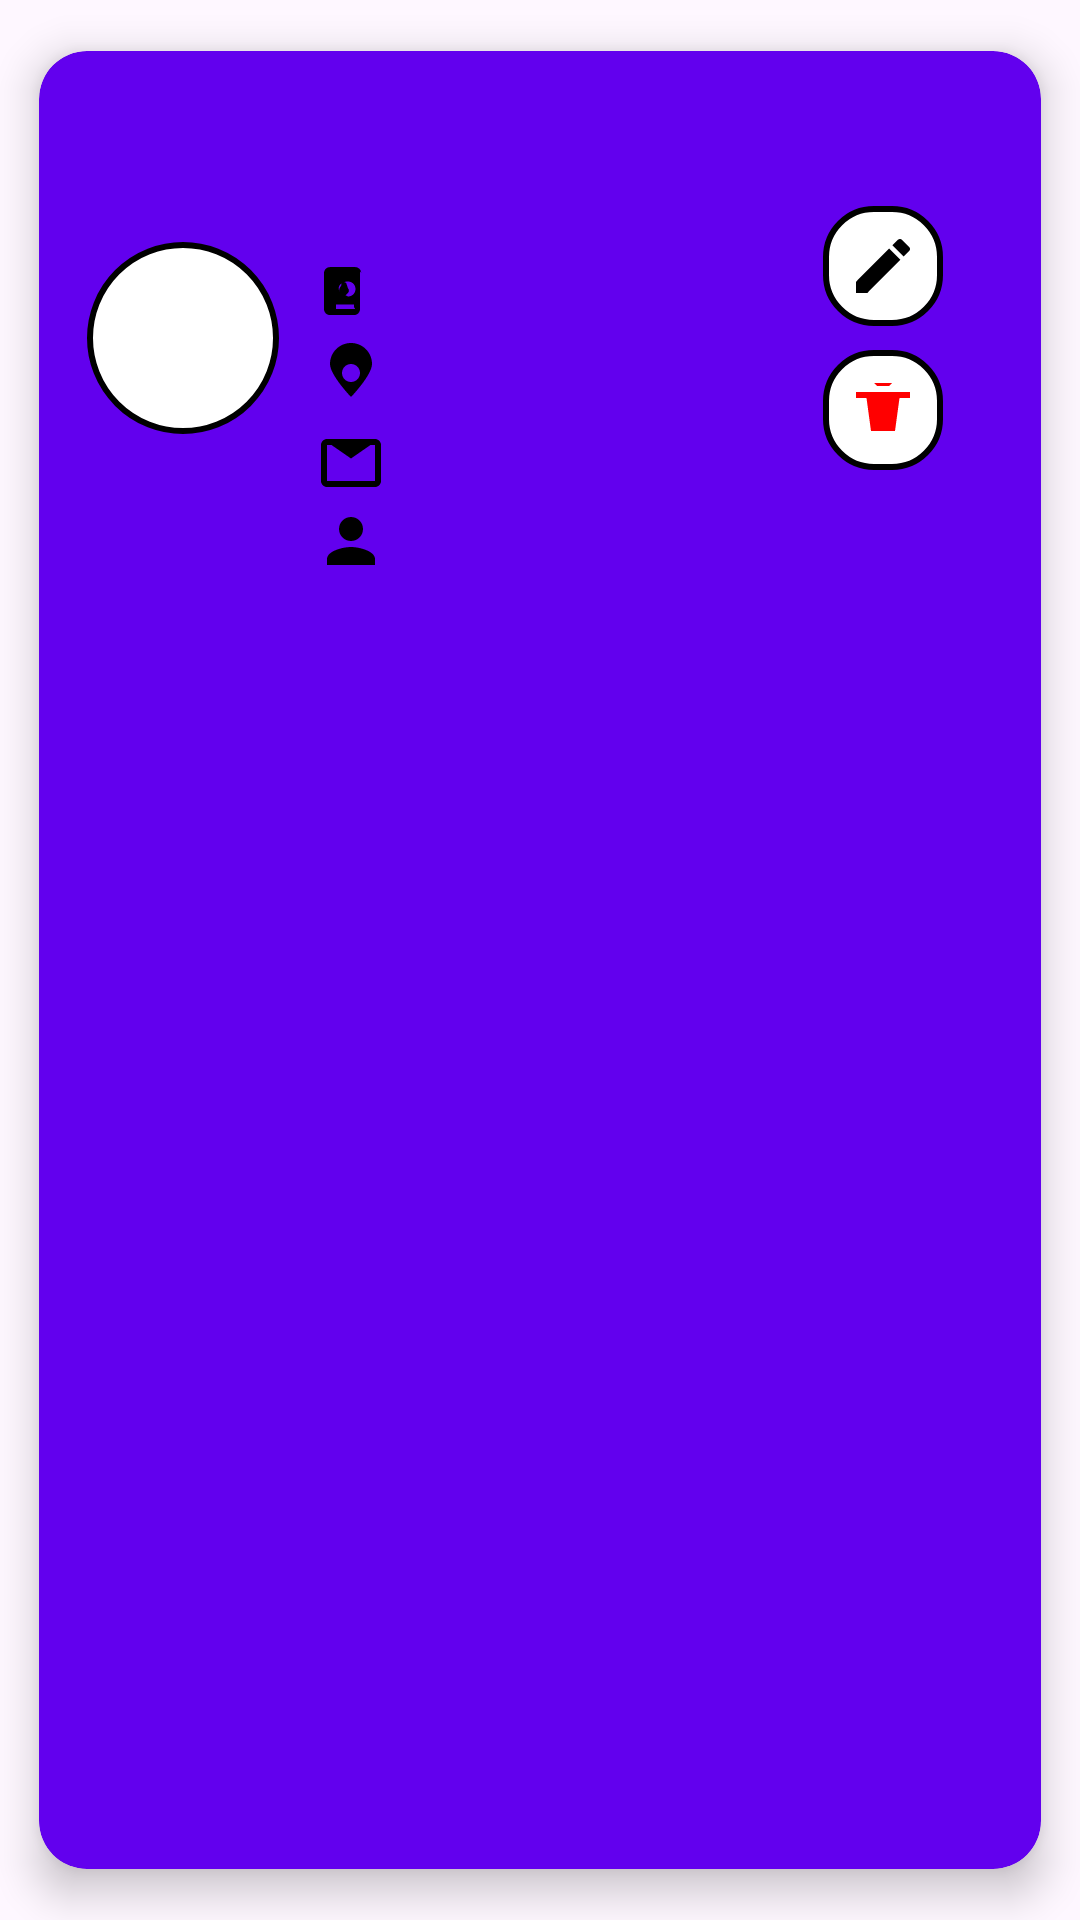

Icon bounding boxes for this 1080×1920 phone screenshot, format region(x1, y1, x2, y2):
delete: region(823, 350, 943, 470)
edit: region(823, 206, 943, 326)
